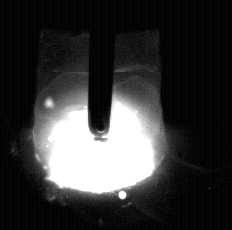arame: (89, 0, 112, 141)
poca: (33, 0, 167, 230)
